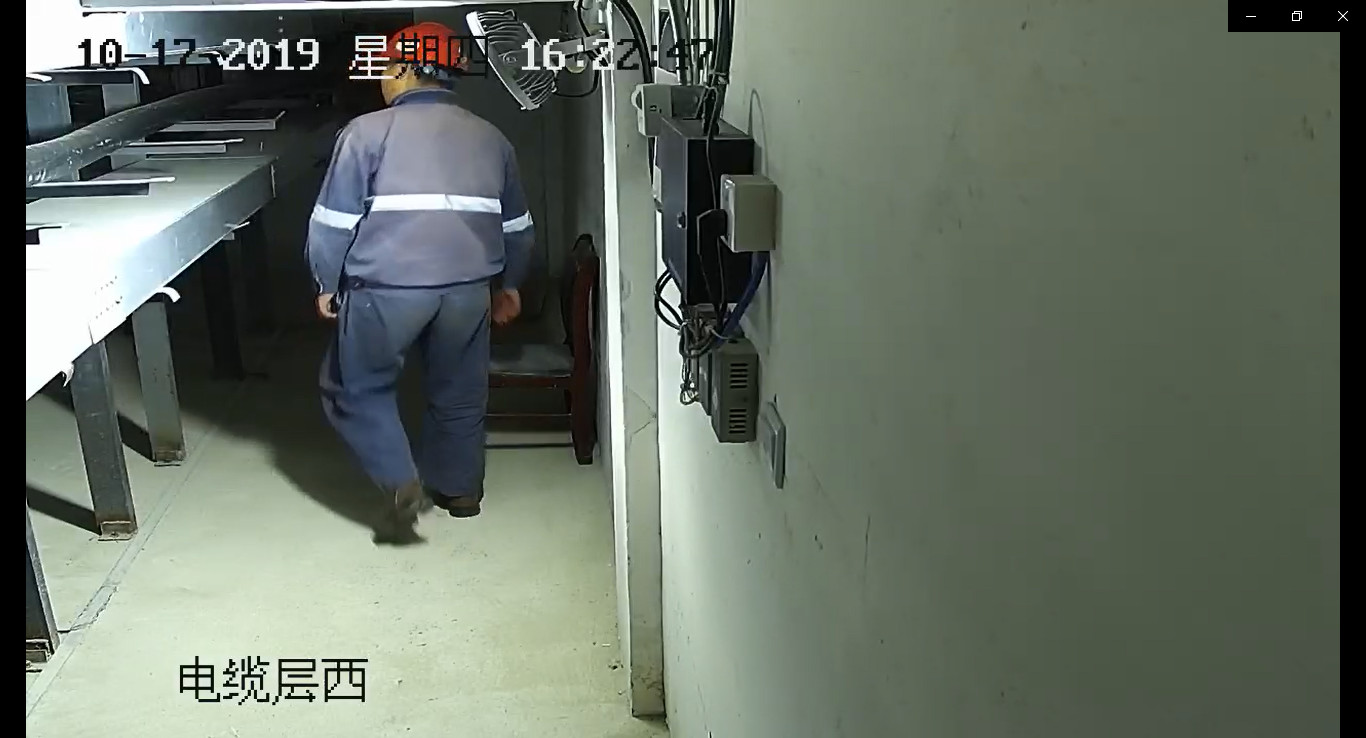helmet: (369, 20, 470, 77)
